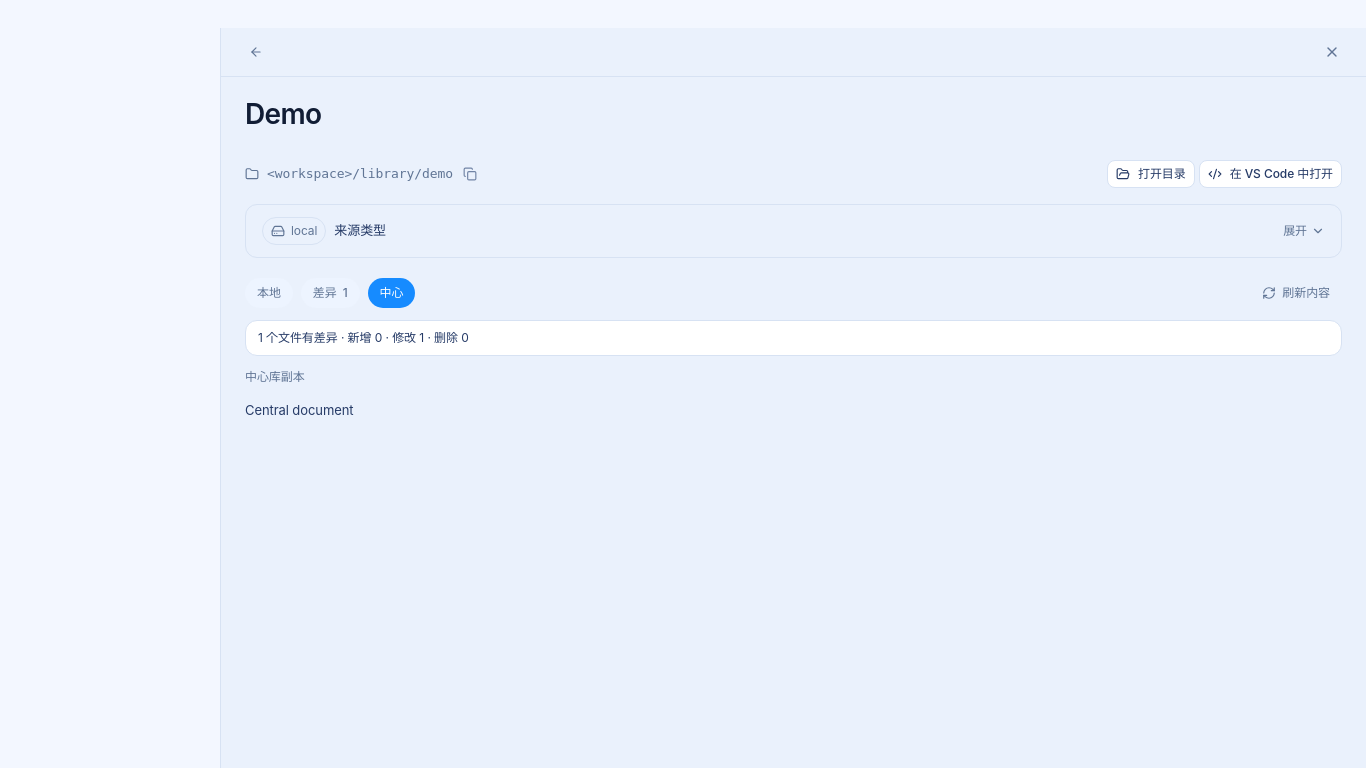
Test: switches local and central tabs to their actual documents
Click the tab "本地" at (269, 293), box [245,278,293,308]
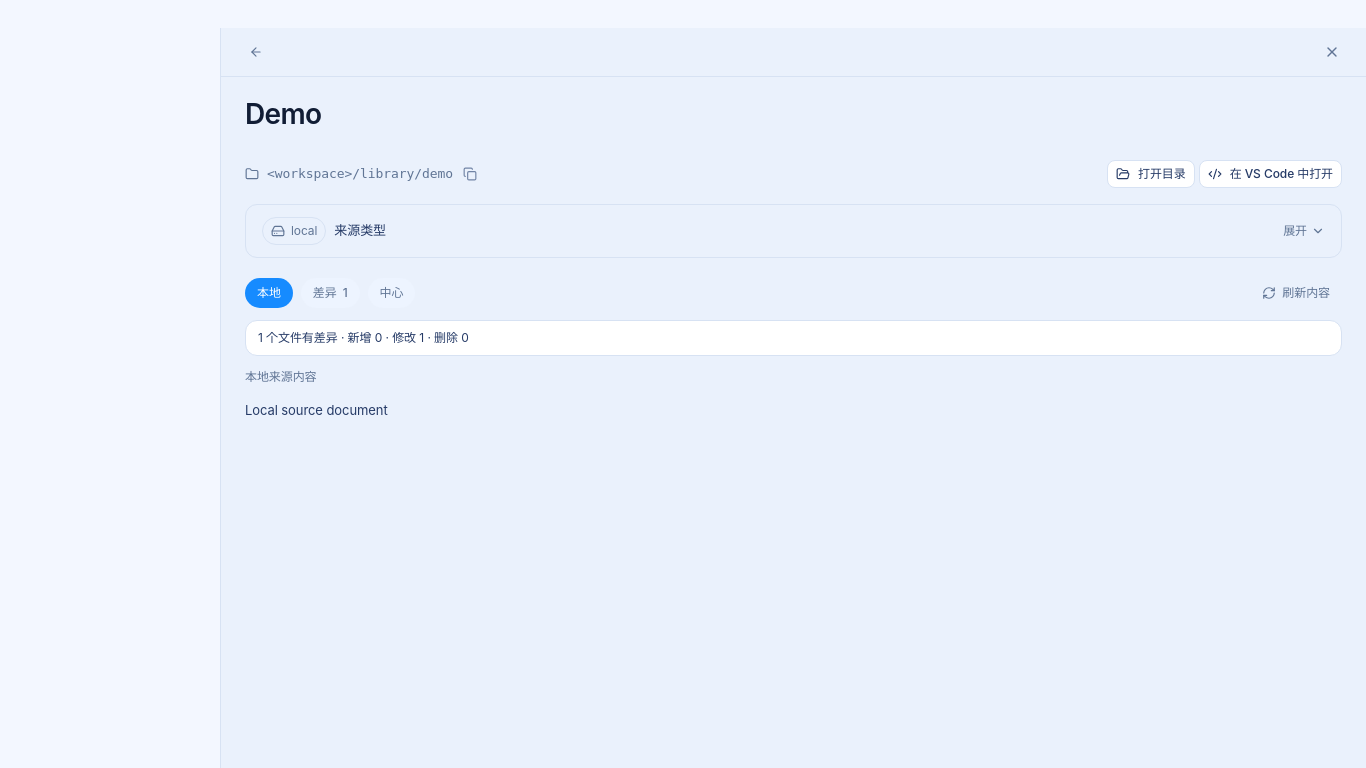
Result: the element showing "Local source document" is shown at [245,402,388,418]
Click the tab "中心" at (392, 293), box [368,278,415,308]
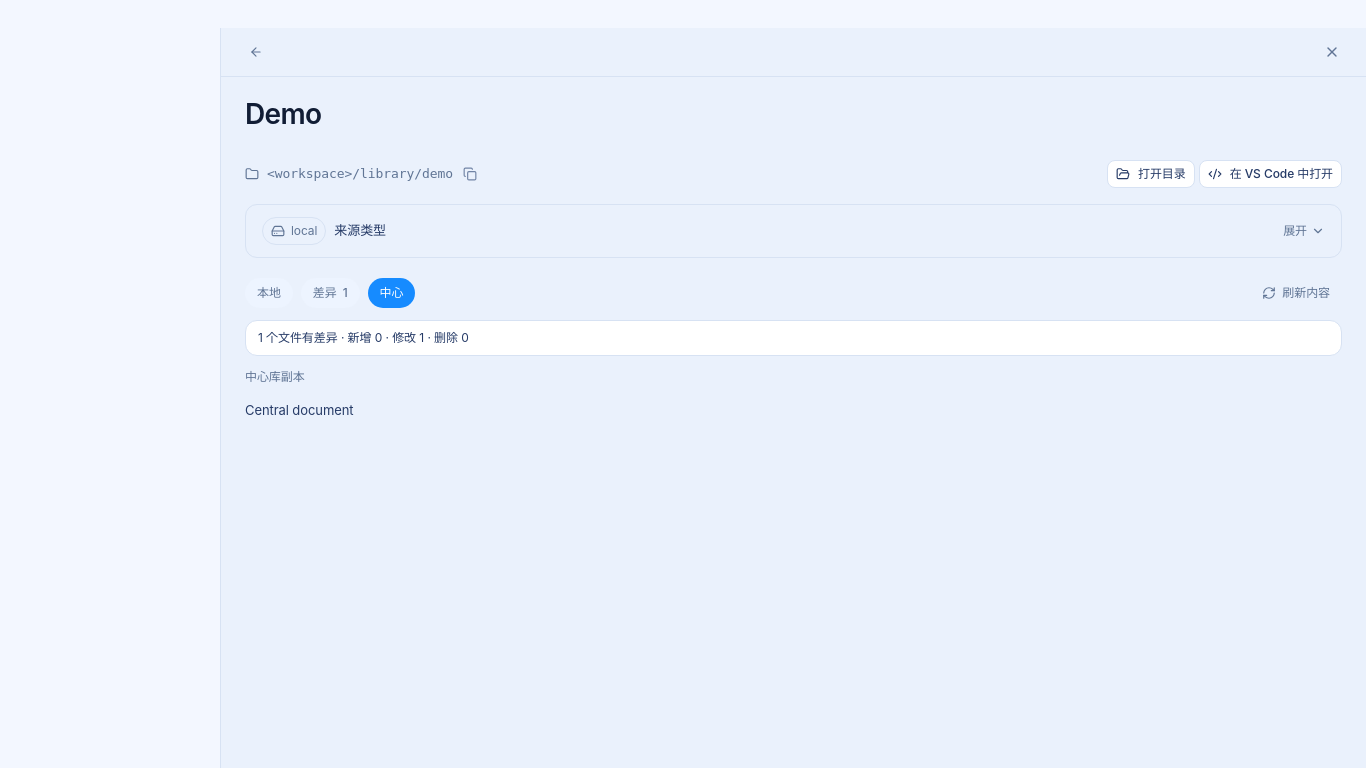
Result: the element showing "Central document" is shown at [245,402,354,418]
